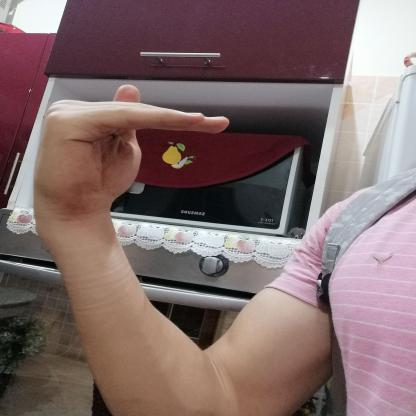KHAA: (18, 76, 241, 241)
